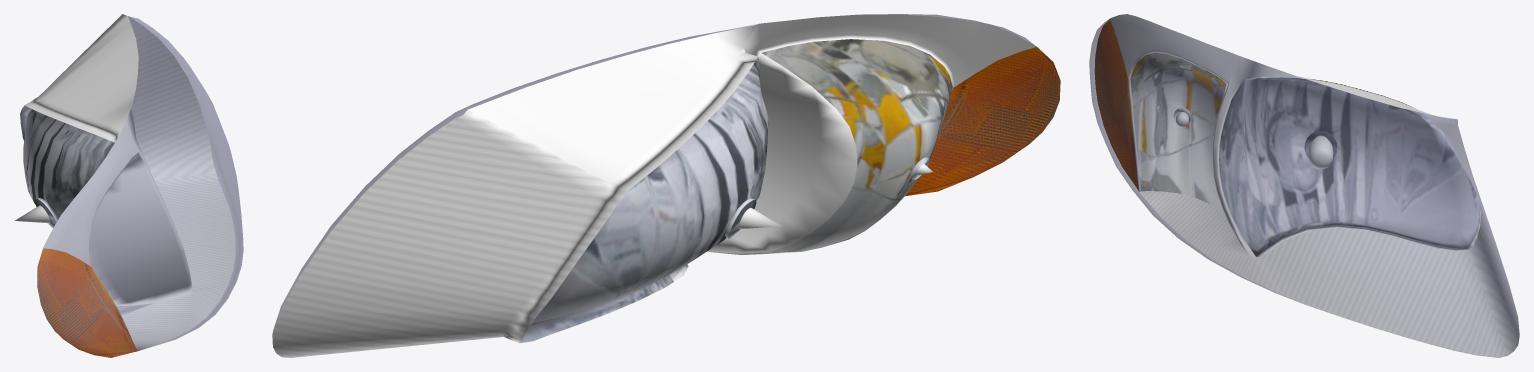
3 renders of one model, left to right at view 1: azimuth 30°, elevation 25°; view 2: azimuth 150°, elevation 25°; view 3: azimuth 270°, elevation 25°, orthographic. The views are drawn at different scales.
Parts seen in each view (by area): view 1: N664_9A_061B_R_2_N_N664_9A_061B_R, N664_9A_061B_R_N664_9A_061B_R_1_DTaSI; view 2: N664_9A_061B_R_2_N_N664_9A_061B_R, N664_9A_061B_R_N664_9A_061B_R_1_DTaSI; view 3: N664_9A_061B_R_N664_9A_061B_R_1_DTaSI, N664_9A_061B_R_2_N_N664_9A_061B_R.
Part boxes in pixels (x1=…): N664_9A_061B_R_2_N_N664_9A_061B_R: x1=14, y1=14, x2=235, y2=357; N664_9A_061B_R_N664_9A_061B_R_1_DTaSI: x1=37, y1=16, x2=243, y2=357; N664_9A_061B_R_2_N_N664_9A_061B_R: x1=272, y1=14, x2=1060, y2=357; N664_9A_061B_R_N664_9A_061B_R_1_DTaSI: x1=272, y1=14, x2=1033, y2=332; N664_9A_061B_R_N664_9A_061B_R_1_DTaSI: x1=1089, y1=14, x2=1519, y2=357; N664_9A_061B_R_2_N_N664_9A_061B_R: x1=1094, y1=14, x2=1519, y2=357.
Bounding box in the file's own units: 33.96 × 17.71 × 34.48.
